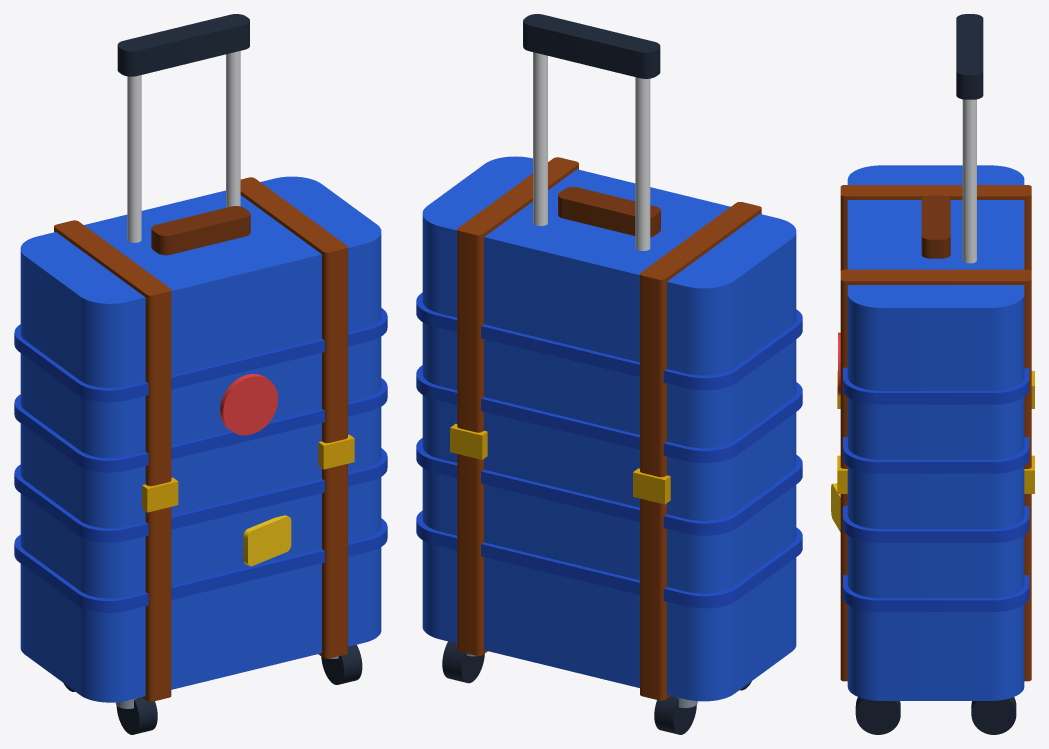
The model's file is suitcase.glb.
The picture shows the model from 3 angles, left to right: view 1: azimuth 30°, elevation 25°; view 2: azimuth 150°, elevation 25°; view 3: azimuth 270°, elevation 25°; orthographic projection. The views are drawn at different scales.
Parts seen in each view (by area): view 1: body, strap_L, strap_R, rib_1, rib_0, rib_3, grip, rib_2, carry_handle, sticker_uk, rod_L, rod_R (+5 smaller); view 2: body, strap_L, strap_R, rib_3, rib_0, rib_2, rib_1, grip, carry_handle, rod_L, rod_R, wheel_2 (+3 smaller); view 3: body, strap_R, strap_L, rib_3, rib_2, rib_0, rib_1, rod_R, grip, carry_handle, wheel_3, wheel_1 (+2 smaller).
Part boxes in pixels (x1,y1,x2,y2): body: (20, 176, 381, 702); strap_L: (54, 220, 171, 701); strap_R: (240, 177, 347, 658); rib_1: (14, 448, 387, 542); rib_0: (14, 518, 387, 612); rib_3: (14, 308, 387, 402); grip: (117, 14, 249, 76); rib_2: (14, 378, 387, 472); carry_handle: (151, 206, 250, 255); sticker_uk: (220, 374, 278, 435); rod_L: (127, 75, 141, 242); rod_R: (226, 51, 240, 207); body: (422, 156, 796, 701); strap_L: (640, 202, 761, 700); strap_R: (457, 157, 578, 655); rib_3: (416, 292, 802, 390); rib_0: (416, 510, 802, 608); rib_2: (416, 365, 802, 462); rib_1: (416, 438, 802, 535); grip: (523, 14, 660, 78); carry_handle: (558, 187, 660, 237); rod_L: (635, 77, 650, 250); rod_R: (533, 52, 547, 225); wheel_2: (654, 696, 696, 734); body: (847, 165, 1024, 700); strap_R: (840, 269, 1031, 681); strap_L: (840, 185, 1031, 270); rib_3: (843, 367, 1029, 404); rib_2: (843, 436, 1029, 473); rib_0: (843, 575, 1029, 611); rib_1: (843, 506, 1029, 542); rod_R: (962, 99, 976, 263); grip: (956, 14, 983, 99); carry_handle: (921, 195, 950, 258); wheel_3: (971, 697, 1016, 734); wheel_1: (855, 697, 900, 734).
Size of the model in its own units: 0.432 by 0.869 by 0.2537.
